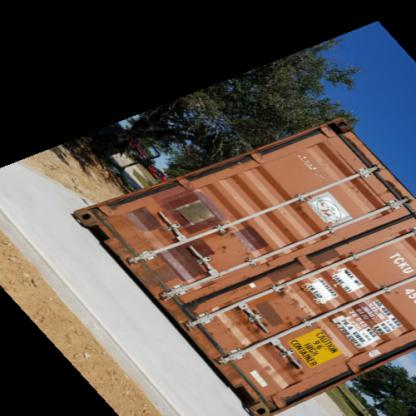Damage: (274, 358, 308, 382), (222, 314, 266, 332), (272, 288, 308, 306), (167, 296, 202, 314), (219, 243, 230, 257)
